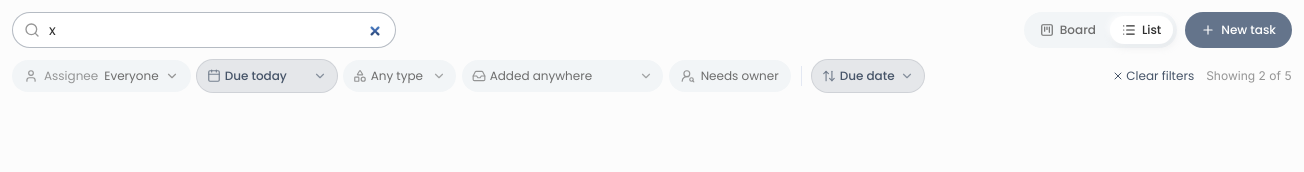
BoardToolbar › says how many show, and clears the filters but not the sort or layout
Expected: the text "Showing 2 of 5" is shown, [1206,68,1292,84]
Click the button "Clear filters": point(1153, 76) [1112,68,1194,84]
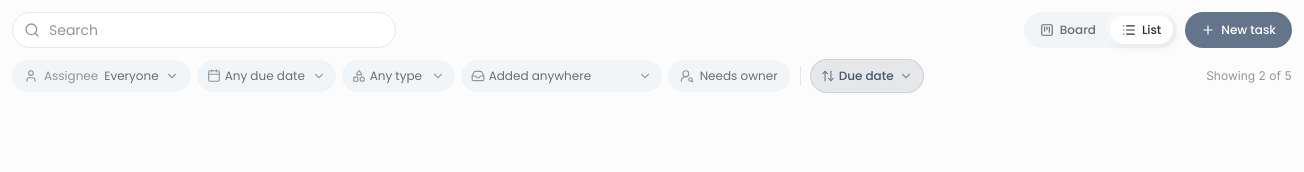
Expected: the button "Clear filters" is gone
Expected: the search field named "Search tasks" is empty, [12,12,396,48]
